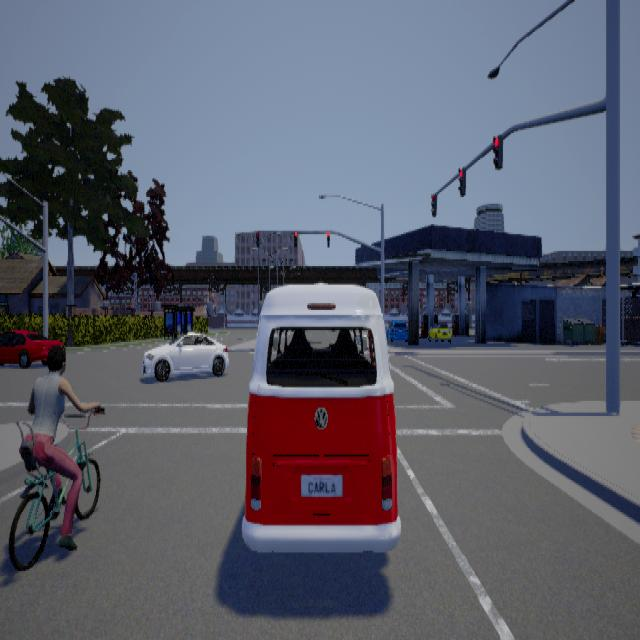bike: (0, 354, 109, 569)
red_light: (492, 133, 502, 168), (457, 165, 465, 195), (430, 192, 436, 216), (255, 229, 259, 246), (326, 229, 329, 246), (293, 229, 296, 246)
vehicle: (241, 281, 407, 551), (141, 330, 228, 381), (0, 329, 62, 367)
